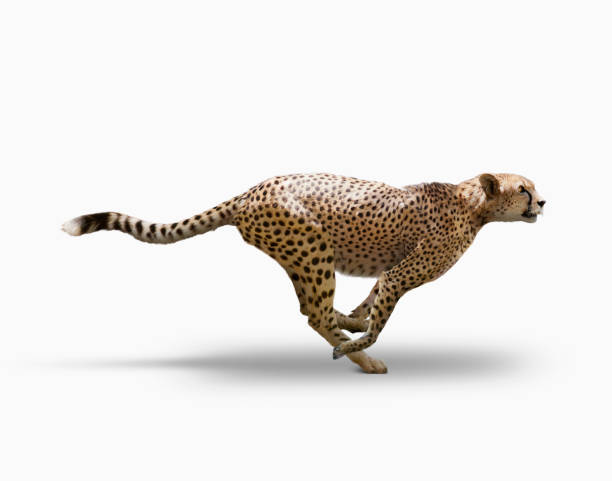cheetah: (466, 160, 556, 232)
